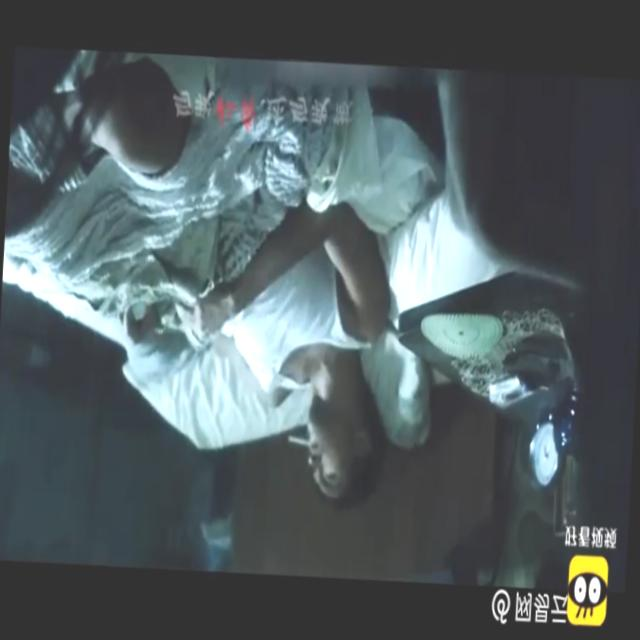smoke: (288, 429, 311, 448)
